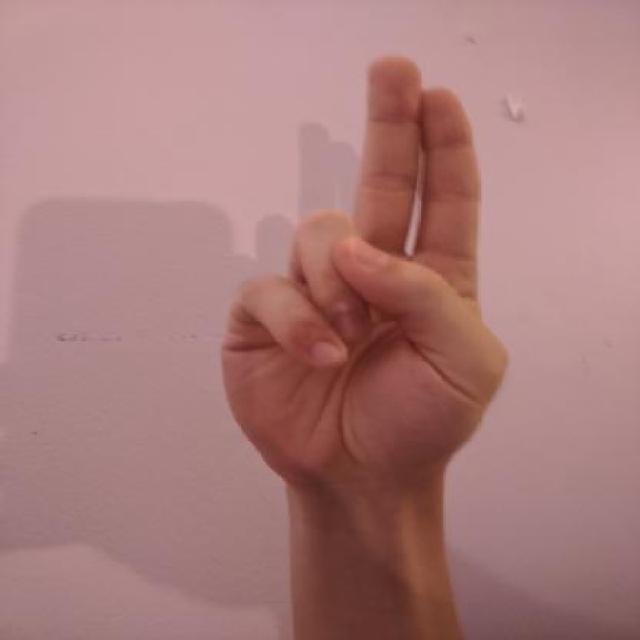U: (209, 46, 524, 509)
